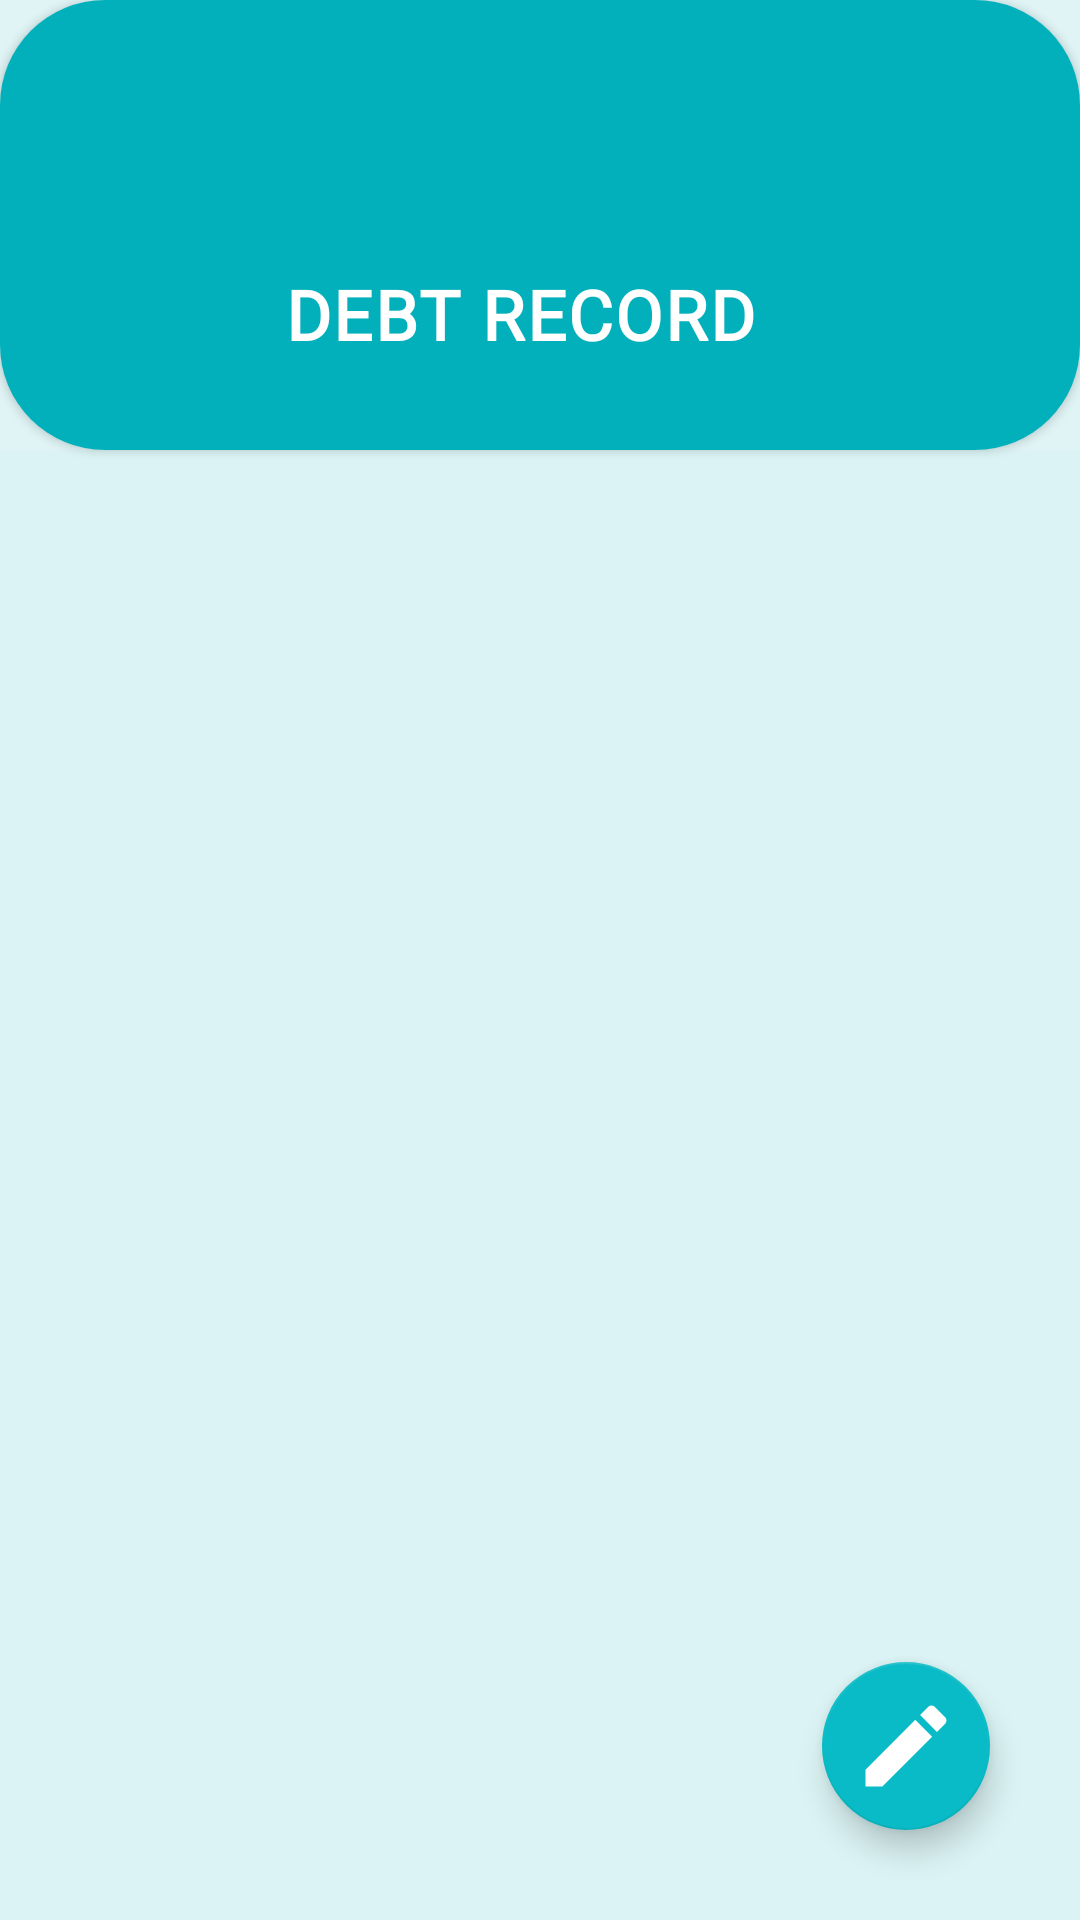

Screen size 1080 x 1920. Icon name, then its box in pixels as (x1, y1, x2, y2):
edit: (822, 1662, 990, 1830)
